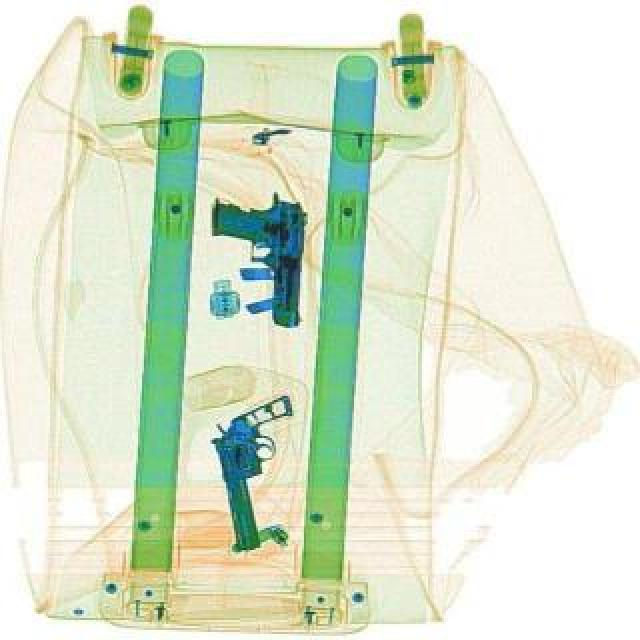gun: (206, 394, 318, 552), (206, 186, 306, 326)
